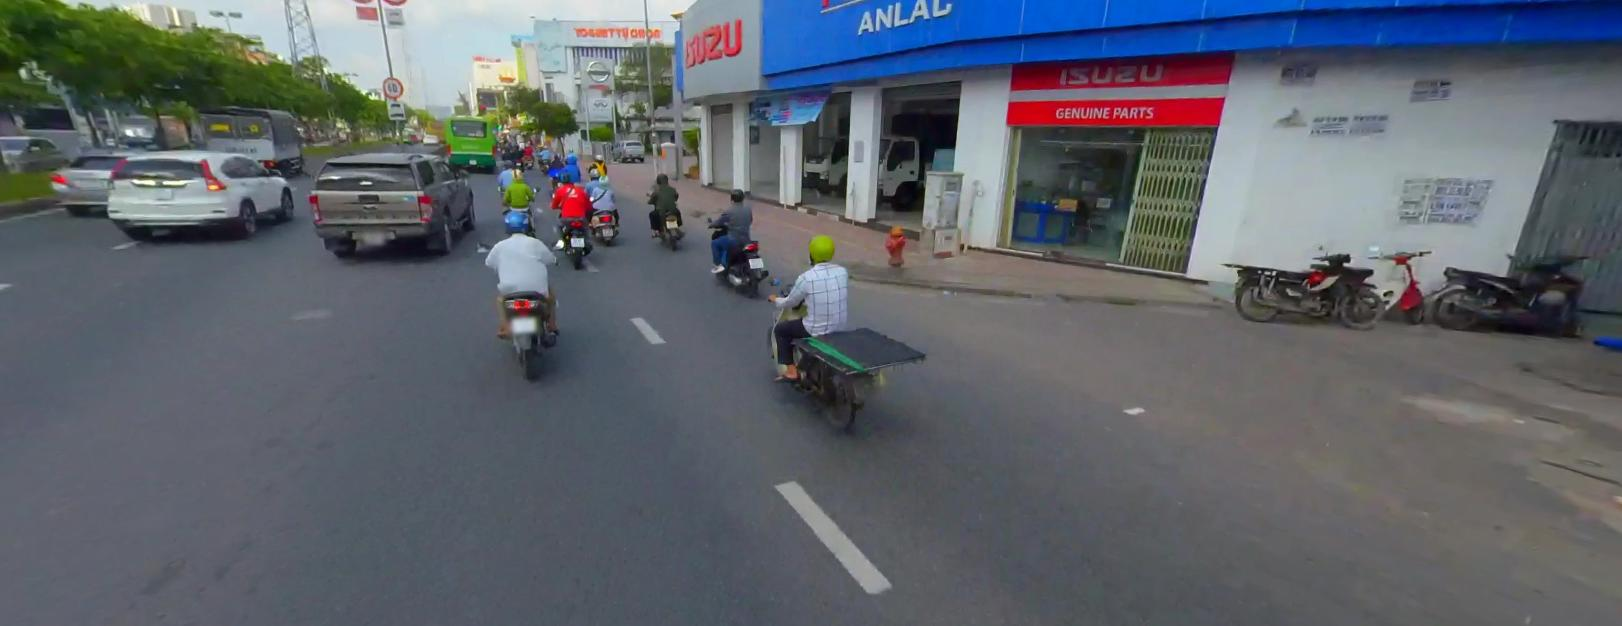Gioi han toc do: (382, 76, 402, 97)
